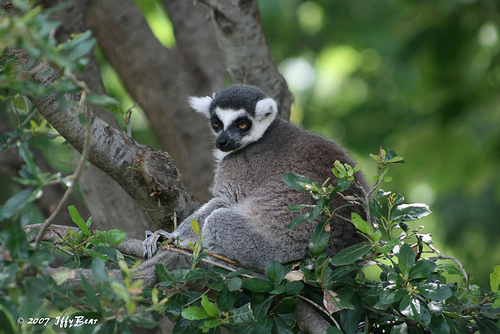cat: (140, 83, 374, 332)
